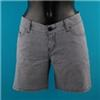bermuda: (13, 13, 91, 91)
